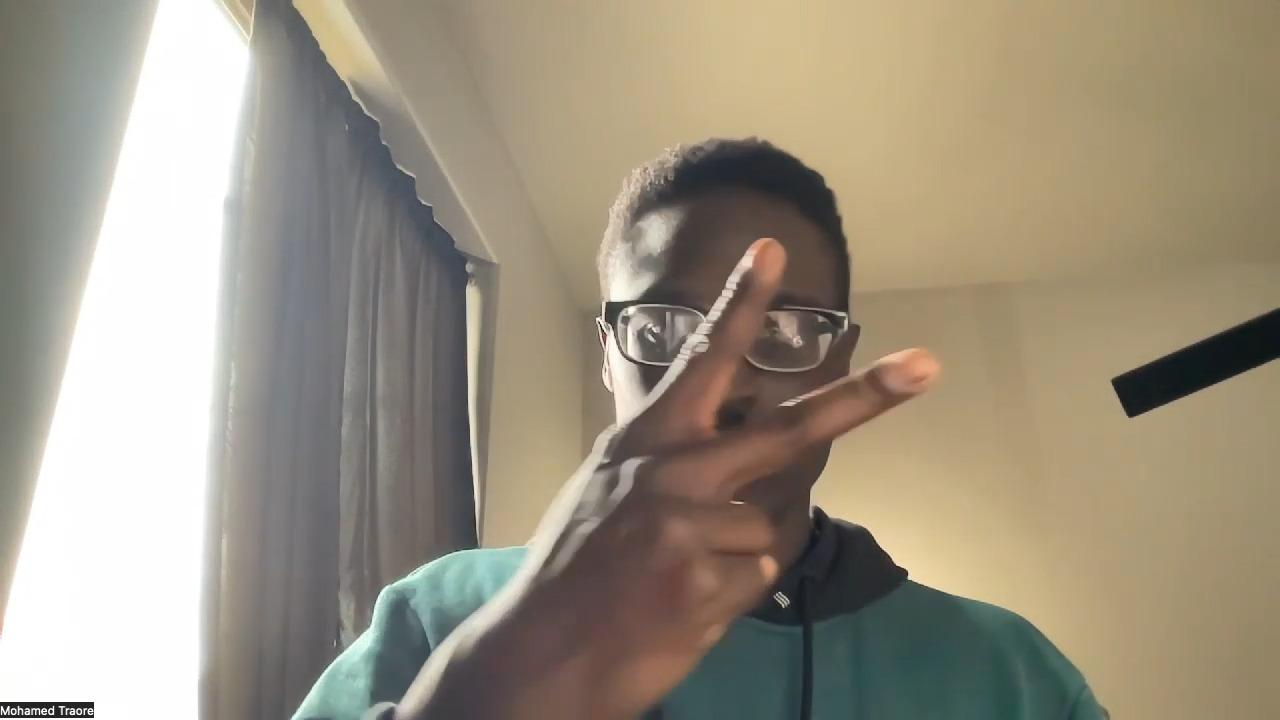Scissors: (480, 235, 939, 720)
